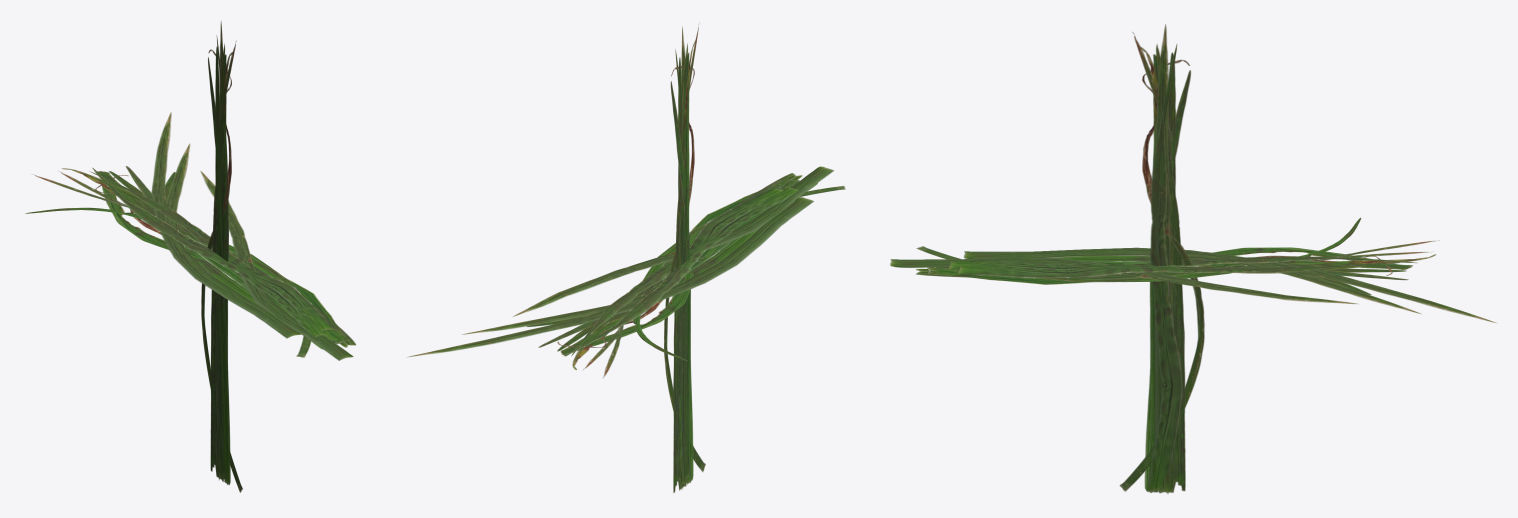
File: Grass Meshset 1.glb
The picture shows the model from 3 angles, left to right: view 1: azimuth 30°, elevation 25°; view 2: azimuth 150°, elevation 25°; view 3: azimuth 270°, elevation 25°; orthographic projection. The views are drawn at different scales.
Parts seen in each view (by area): view 1: Plane, Plane.017, Plane.009, Plane.001, Plane.037, Plane.023, Plane.014, Plane.012, Plane.036, Plane.015, Plane.013, Plane.018 (+6 smaller); view 2: Plane.009, Plane, Plane.001, Plane.037, Plane.023, Plane.013, Plane.016, Plane.014, Plane.012, Plane.036, Plane.015, Plane.018 (+6 smaller); view 3: Plane.010, Plane, Plane.009, Plane.001, Plane.011, Plane.012, Plane.018, Plane.037, Plane.014, Plane.017, Plane.036, Plane.023 (+5 smaller).
Boxes of the visible parts, x1,y1,x2,y2 form: Plane: (92, 168, 333, 331); Plane.017: (215, 46, 230, 484); Plane.009: (200, 171, 353, 360); Plane.001: (151, 112, 301, 338); Plane.037: (89, 171, 327, 337); Plane.023: (166, 143, 285, 337); Plane.014: (210, 52, 232, 471); Plane.012: (211, 40, 236, 479); Plane.036: (99, 171, 343, 343); Plane.015: (216, 54, 226, 481); Plane.013: (216, 43, 225, 474); Plane.018: (201, 49, 242, 492); Plane.009: (513, 166, 833, 316); Plane: (564, 188, 783, 355); Plane.001: (407, 197, 813, 357); Plane.037: (571, 187, 798, 356); Plane.023: (462, 198, 813, 334); Plane.013: (679, 43, 689, 483); Plane.016: (670, 81, 690, 482); Plane.014: (673, 40, 695, 492); Plane.012: (673, 23, 699, 488); Plane.036: (560, 179, 797, 354); Plane.015: (679, 52, 689, 490); Plane.018: (664, 66, 705, 472); Plane.010: (1147, 44, 1182, 491); Plane: (958, 256, 1416, 277); Plane.009: (890, 257, 1357, 303); Plane.001: (964, 251, 1495, 322); Plane.011: (1154, 24, 1172, 492); Plane.012: (1132, 32, 1184, 490); Plane.018: (1119, 59, 1204, 491); Plane.037: (949, 261, 1411, 272); Plane.014: (1139, 46, 1185, 491); Plane.017: (1144, 52, 1175, 492); Plane.036: (929, 247, 1411, 284); Plane.023: (964, 247, 1420, 313).
Size of the model in its own units: 0.8832 by 1.77 by 2.04.
Materials: 1 (1 with a texture image).
